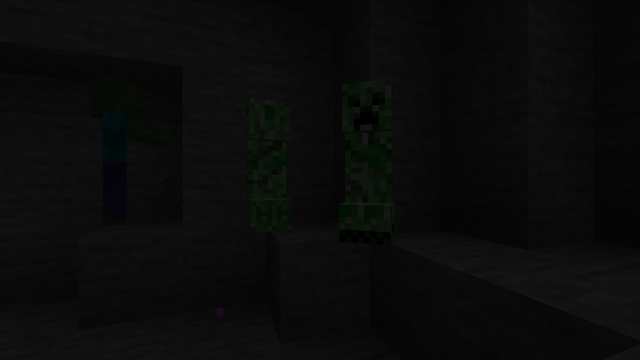creepers: (334, 67, 409, 243), (241, 89, 292, 231)
zombies: (78, 77, 142, 227)
